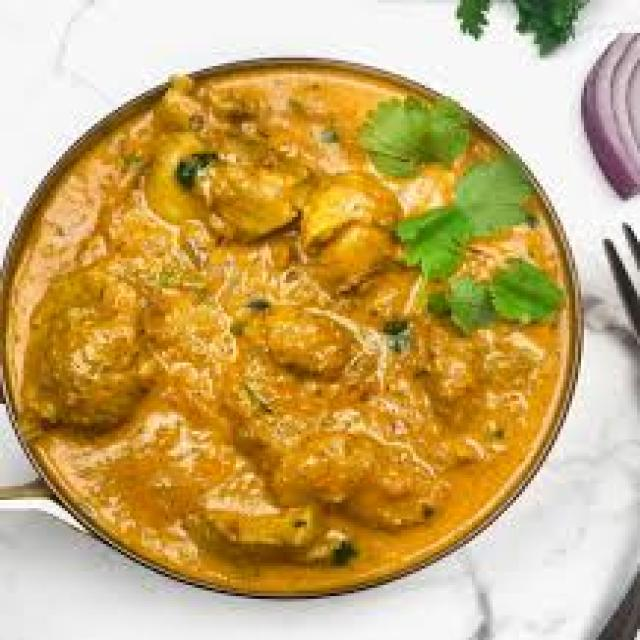Frango: (12, 63, 572, 591)
